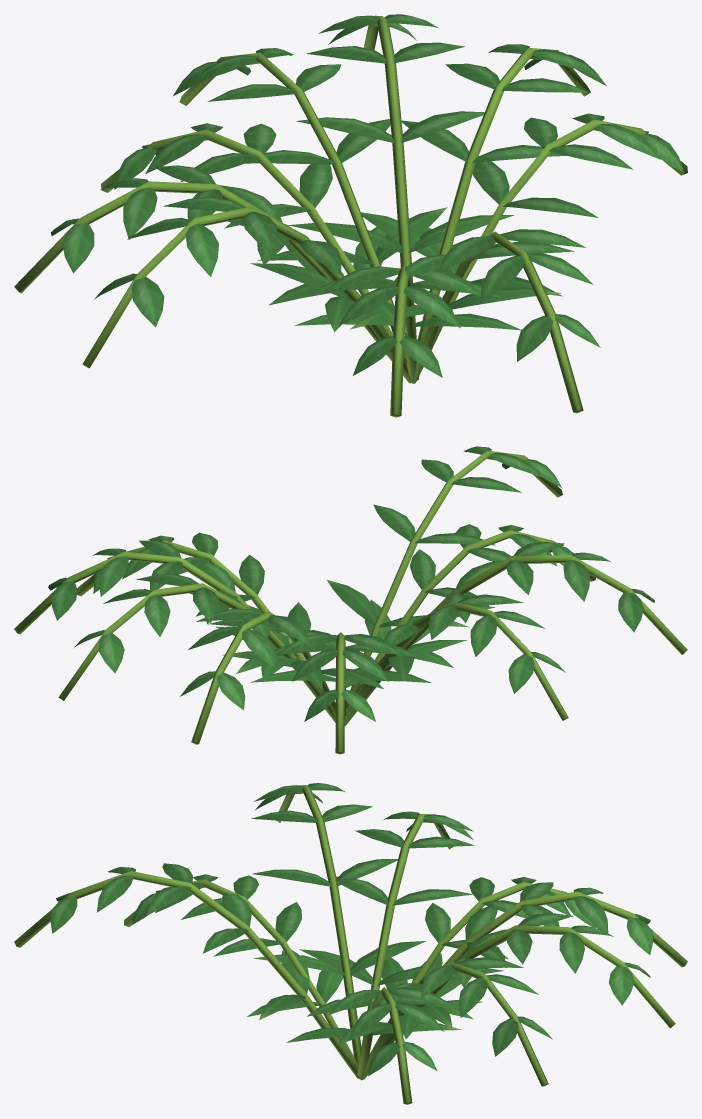
Rendered from fern_b.glb.
3 views of the same model, one above another, from view 1: azimuth 30°, elevation 25°; view 2: azimuth 150°, elevation 25°; view 3: azimuth 270°, elevation 25° (orthographic). The views are drawn at different scales.
Visible parts, largest first — view 1: Fern_leaf; view 2: Fern_leaf; view 3: Fern_leaf.
Part boxes in pixels (x1=…): Fern_leaf: x1=14, y1=14, x2=687, y2=417; Fern_leaf: x1=14, y1=446, x2=687, y2=754; Fern_leaf: x1=14, y1=783, x2=687, y2=1104.
Bounding box in the file's own units: 1.67 × 0.5846 × 1.81.
Materials: 1 (1 with a texture image).
